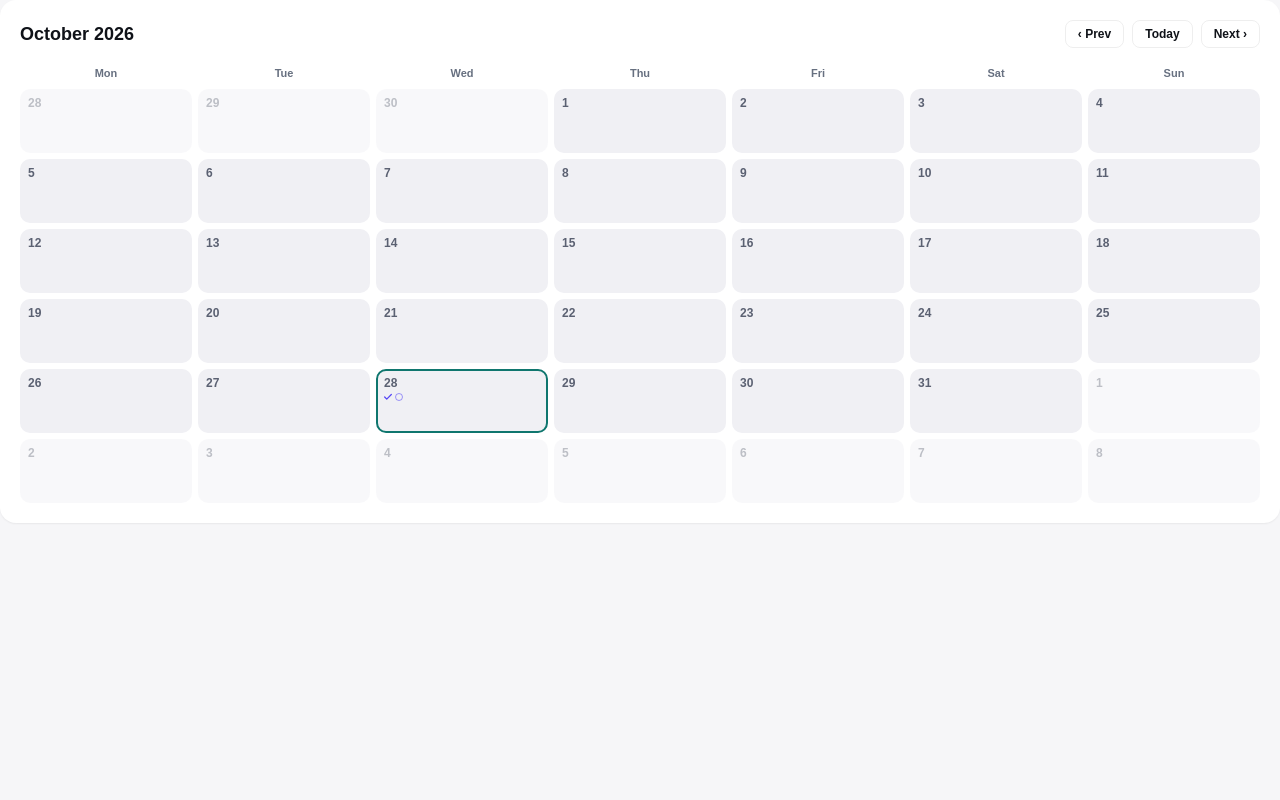
Test case: SubscriptionsCalendar › reads a posted occurrence as done and strikes a skipped one in the popover
Click the cell named "2 scheduled items" at (462, 401), box [376,369,548,433]
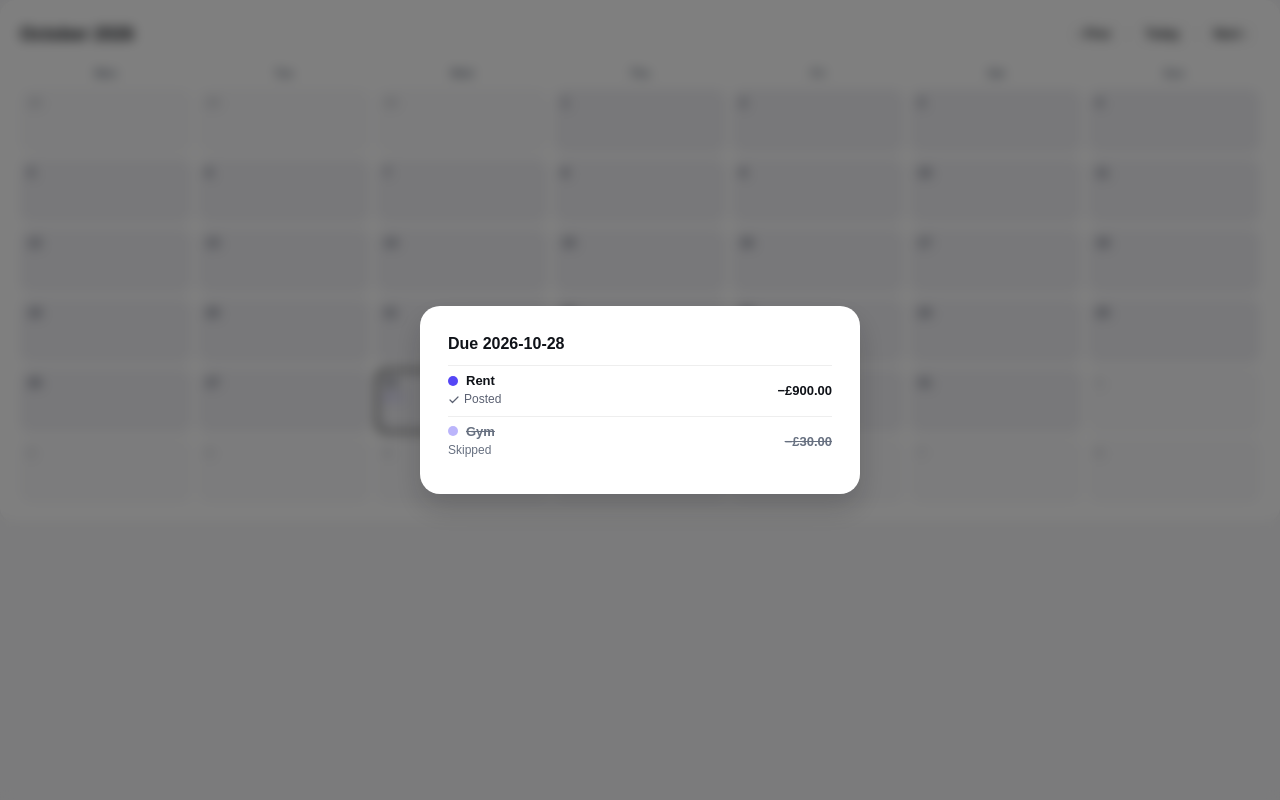
expect the text "Posted" is shown: met, box [448,392,501,408]
expect the text "Skipped" is shown: met, box [448,443,495,458]
